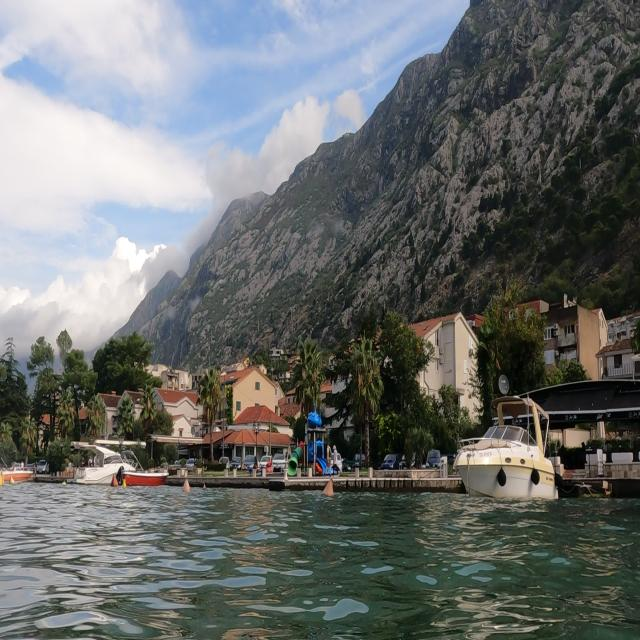boat: (452, 388, 560, 504), (67, 430, 137, 492), (118, 455, 171, 491)
buoy: (322, 474, 338, 506), (181, 476, 195, 496)
